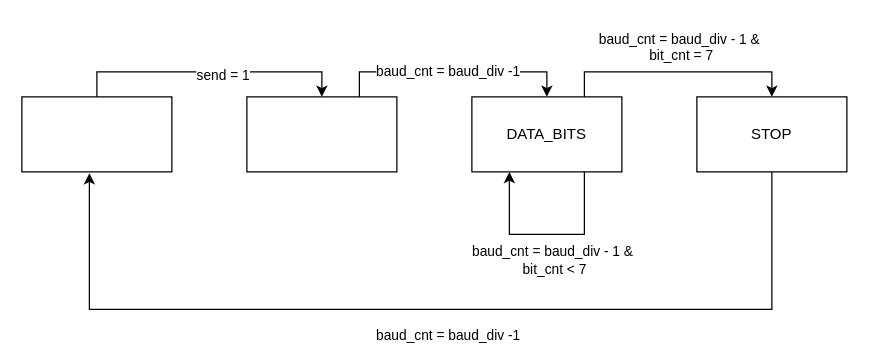
This 869x364 diagram has some shape labels left out. The shapes that lost their labels are listed below. From the top down, each one's centre as x and y in pixels, then its label:
the point at 96,134: IDLE
the point at 321,134: START_BIT
